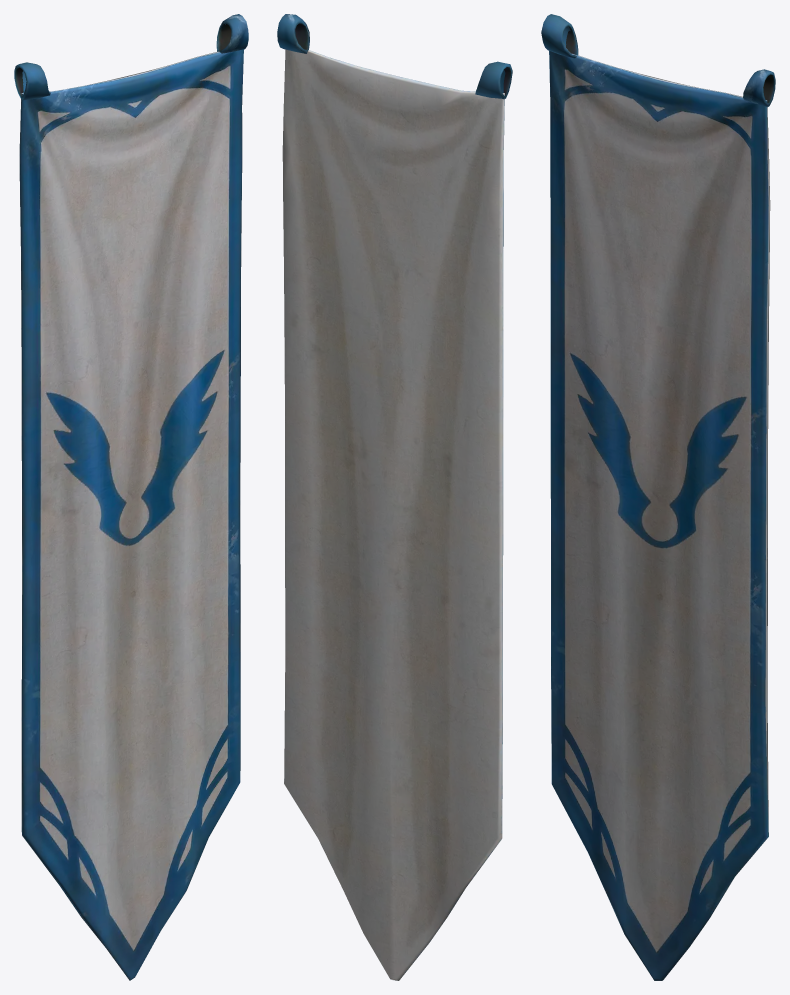
The picture shows the model from 3 angles, left to right: view 1: azimuth 30°, elevation 25°; view 2: azimuth 150°, elevation 25°; view 3: azimuth 330°, elevation 25°; orthographic projection.
Visible parts, largest first — view 1: SM_Wall_Vertical_Banner_Armadyl_01v1_LOD0; view 2: SM_Wall_Vertical_Banner_Armadyl_01v1_LOD0; view 3: SM_Wall_Vertical_Banner_Armadyl_01v1_LOD0.
Part boxes in pixels (left/top/right/bottom): SM_Wall_Vertical_Banner_Armadyl_01v1_LOD0: left=14, top=14, right=248, bottom=980; SM_Wall_Vertical_Banner_Armadyl_01v1_LOD0: left=277, top=14, right=512, bottom=980; SM_Wall_Vertical_Banner_Armadyl_01v1_LOD0: left=541, top=14, right=775, bottom=980.
Size of the model in its own units: 0.8268 by 3.35 by 0.101.
